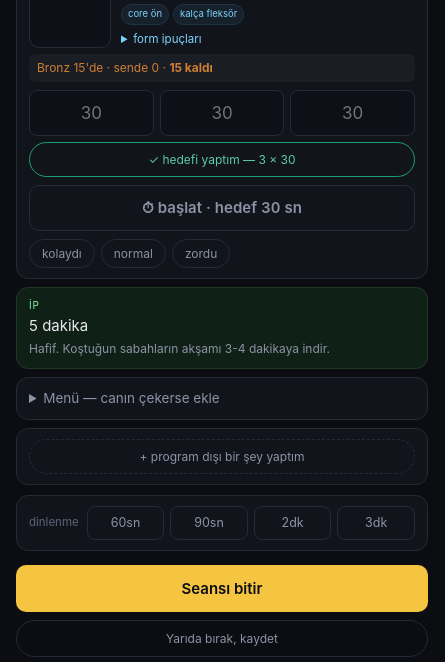
program dışı antrenman kaydı › iki dokunuşta kaydedilir ve kayıt listede görünür
(page scrolled)
Click the button "+ program dışı bir şey yaptım": (222, 456) [29, 439, 415, 474]
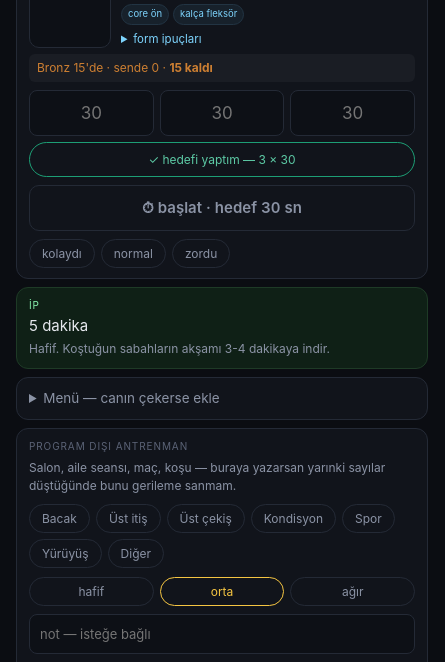
Click the button "Bacak": (59, 518) [29, 504, 90, 533]
(page scrolled)
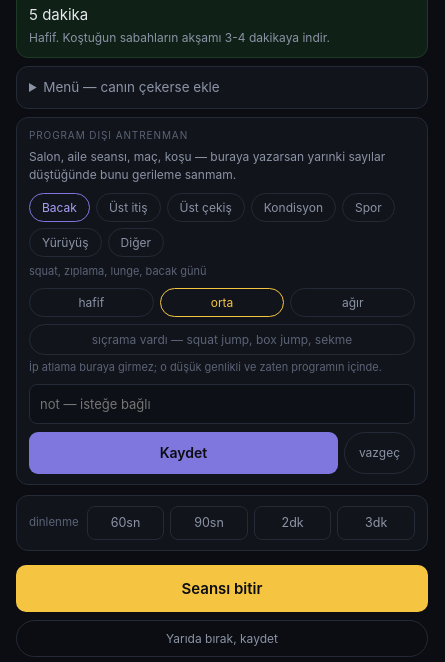
Click the button "Kaydet": (183, 453) [29, 432, 338, 474]
(page scrolled)
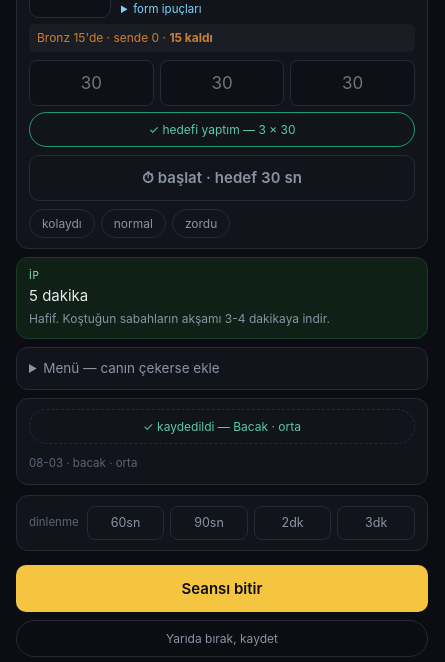
Now the button "✓ kaydedildi — Bacak · orta" is shown, box [29, 409, 415, 444]
Now the text "08-03 · bacak · orta" is shown, box [29, 456, 137, 470]
